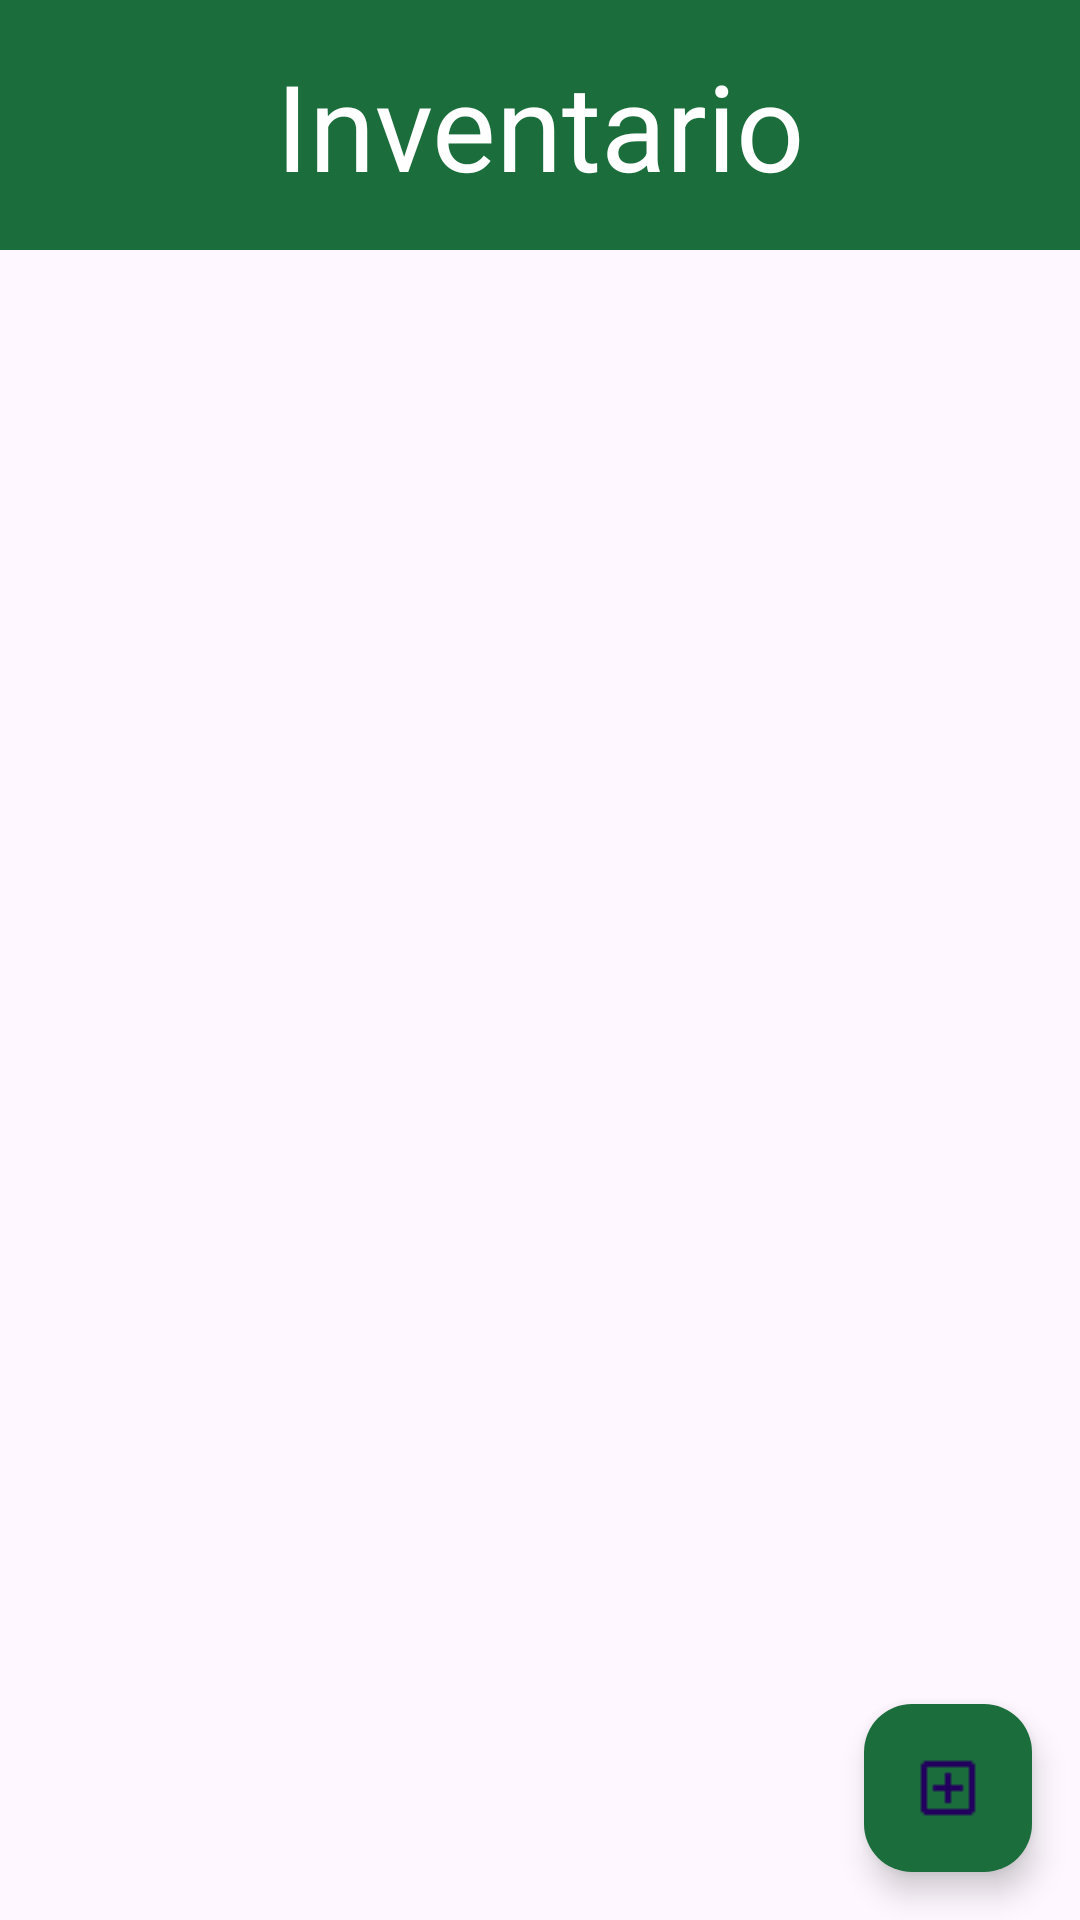

Screen size 1080w x 1920h. Icon name, then its box in pixels as (x1, y1, x2, y2):
add box: (864, 1704, 1032, 1872)
